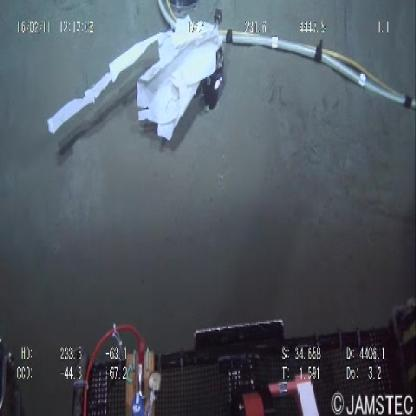Rov: (65, 316, 416, 414)
Rác: (42, 12, 234, 159)
